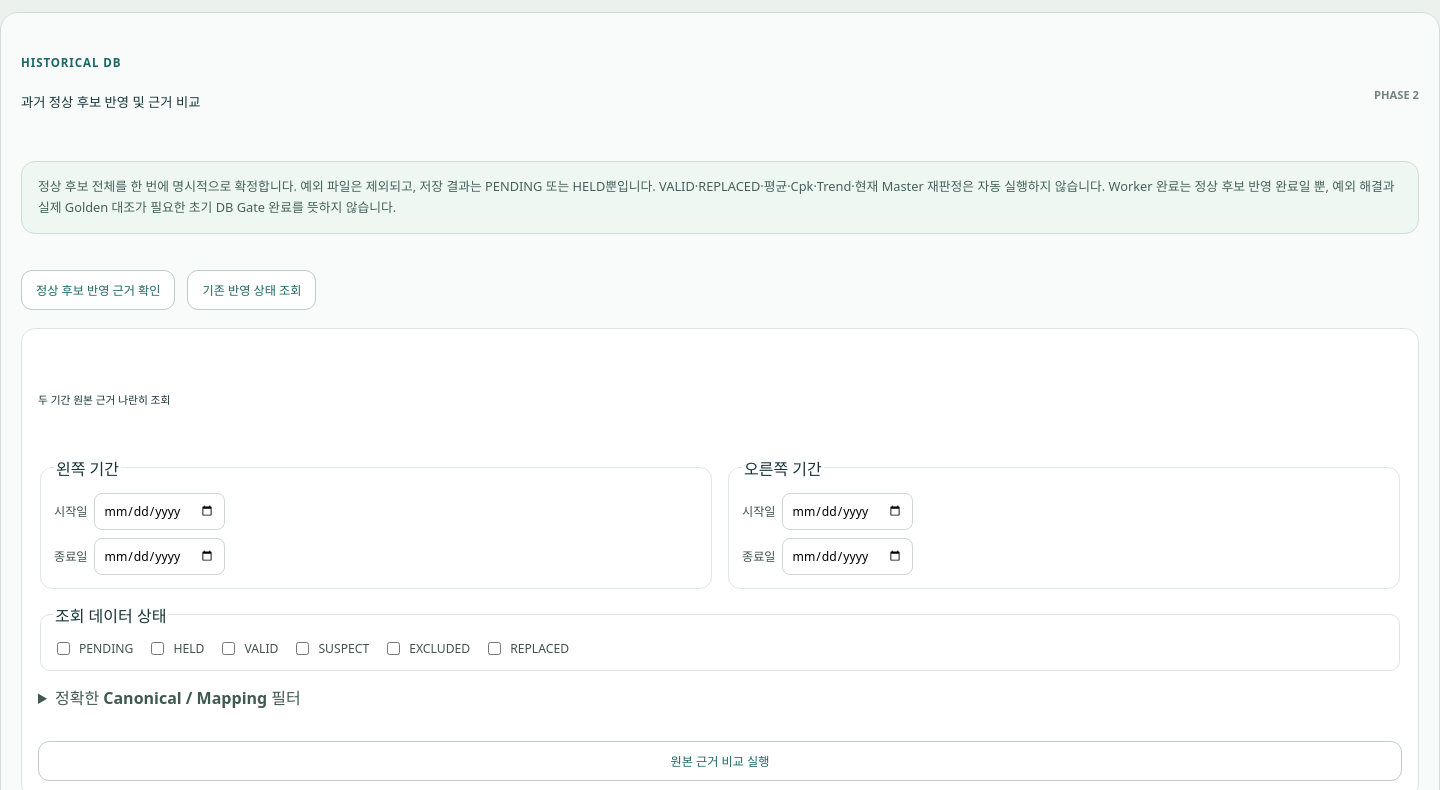
Test: HistoricalWorkspacePanel › DQ-P2-HISTUI-001 두 기간과 상태를 명시해 원본 Cell·Raw·Mapping 근거를 나란히 조회한다
In the date field labelled "시작일" below "왼쪽 기간": (159, 511) [94, 492, 225, 530], type "2026-01-01"
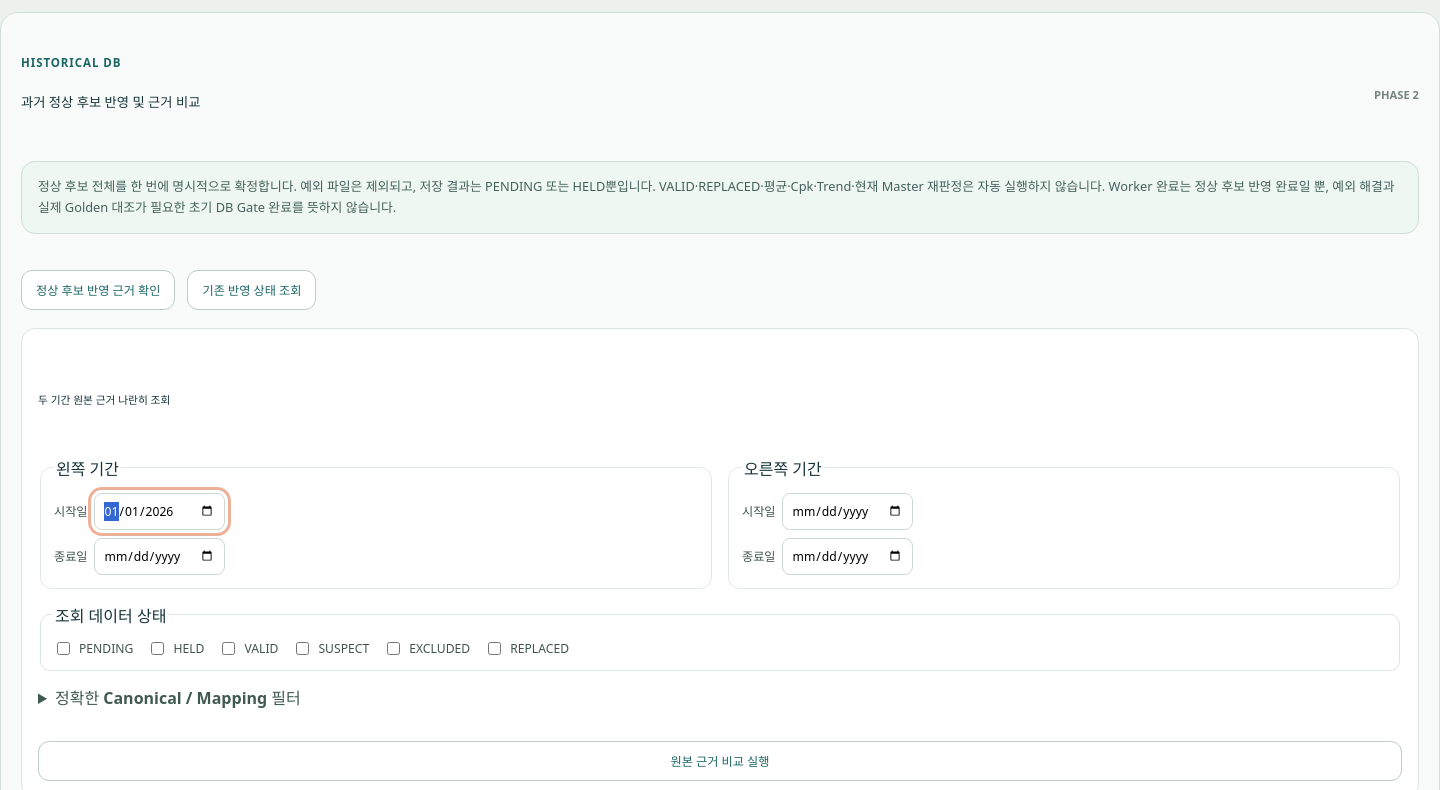
In the date field labelled "종료일" below "왼쪽 기간": (159, 556) [94, 538, 225, 574], type "2026-01-31"
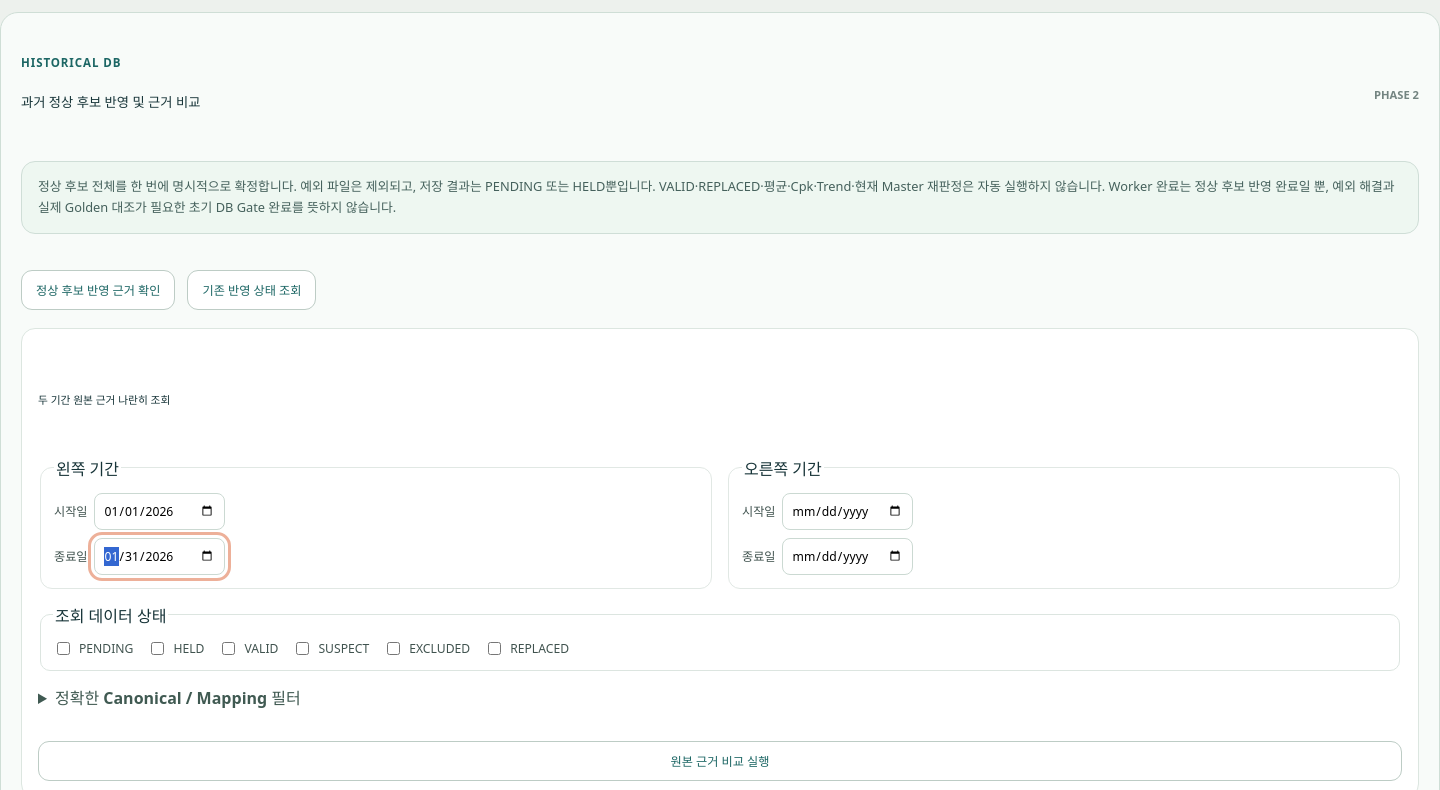
In the date field labelled "시작일" below "오른쪽 기간": (847, 511) [782, 492, 913, 530], type "2026-02-01"
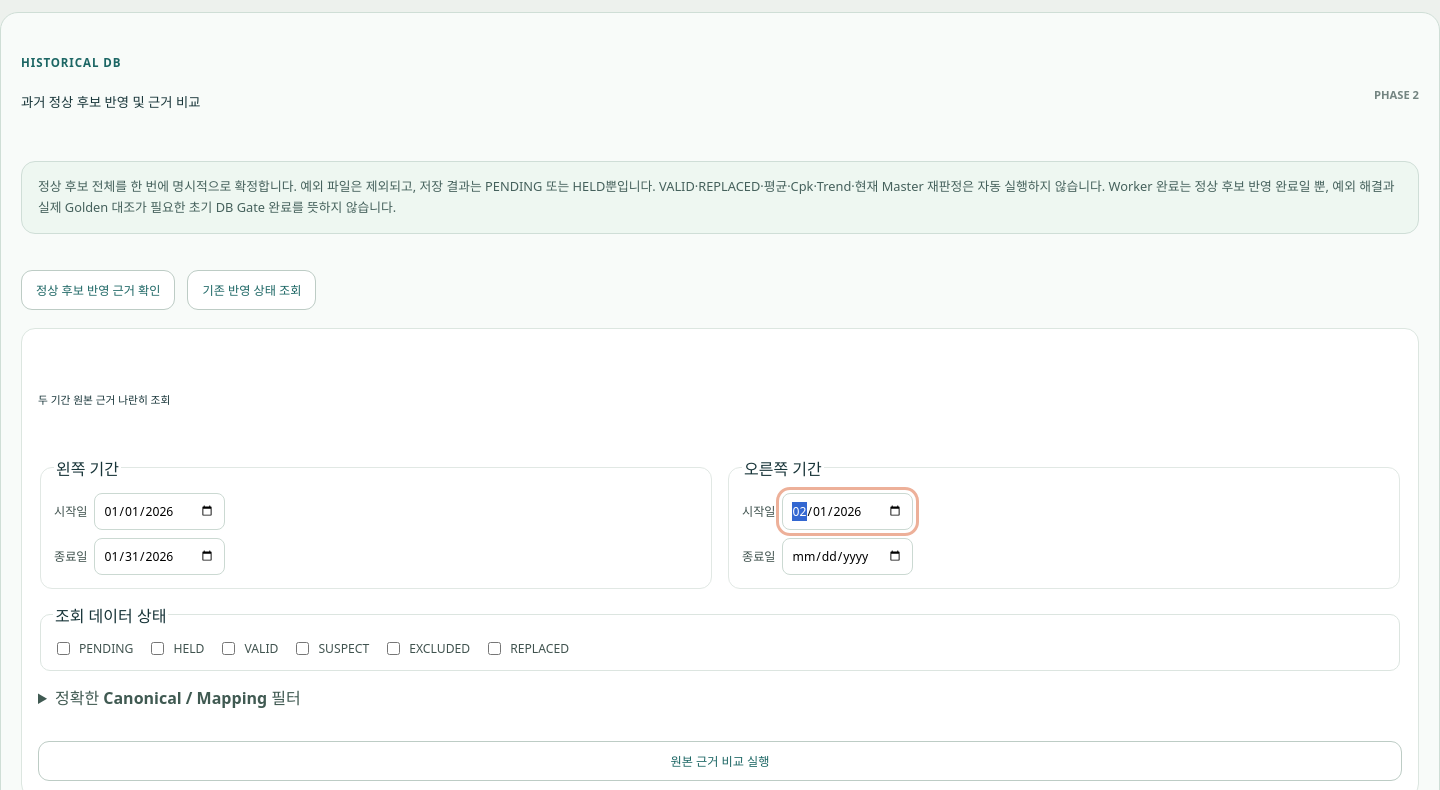
In the date field labelled "종료일" below "오른쪽 기간": (847, 556) [782, 538, 913, 574], type "2026-02-28"
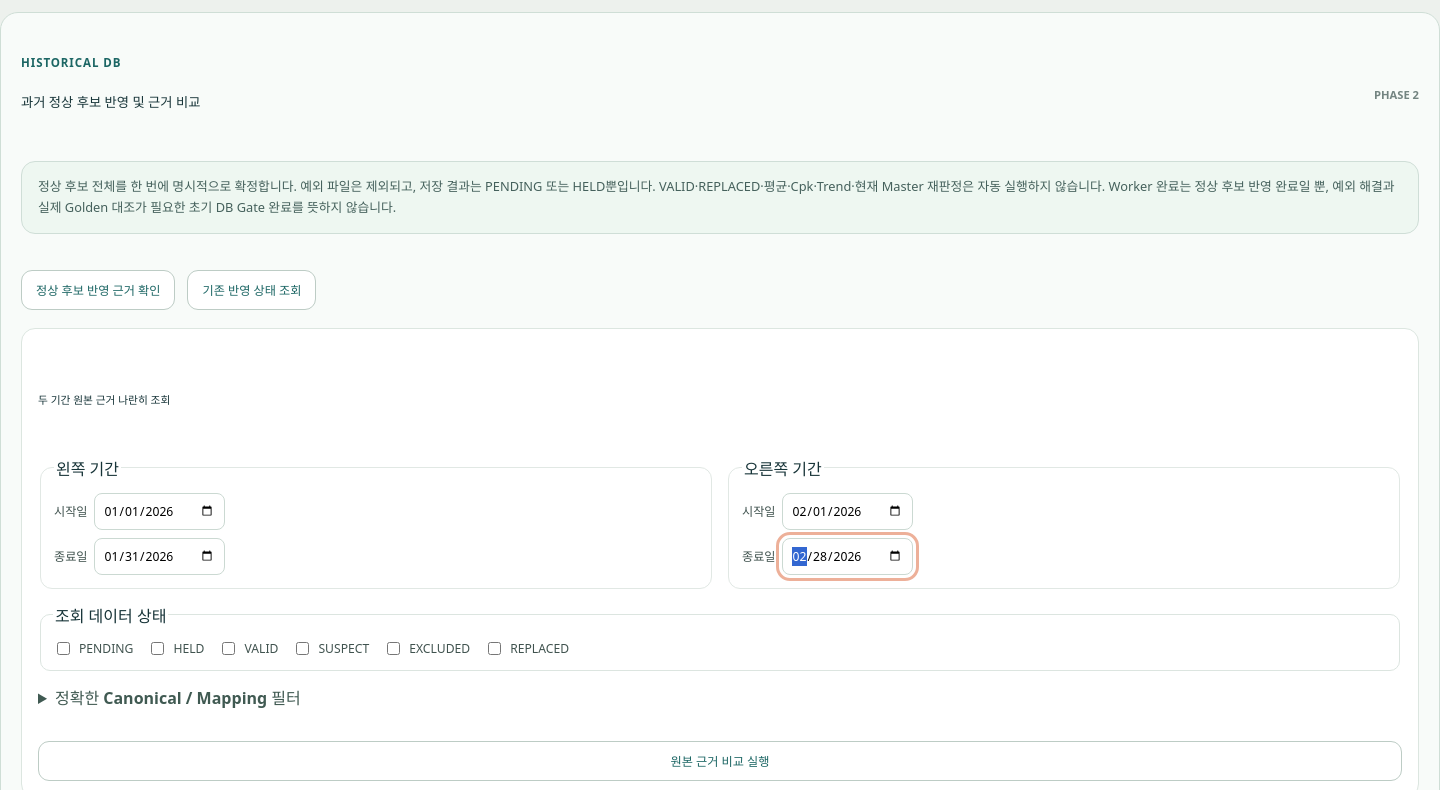
Click the checkbox labelled "PENDING": click(64, 648) [57, 642, 70, 654]
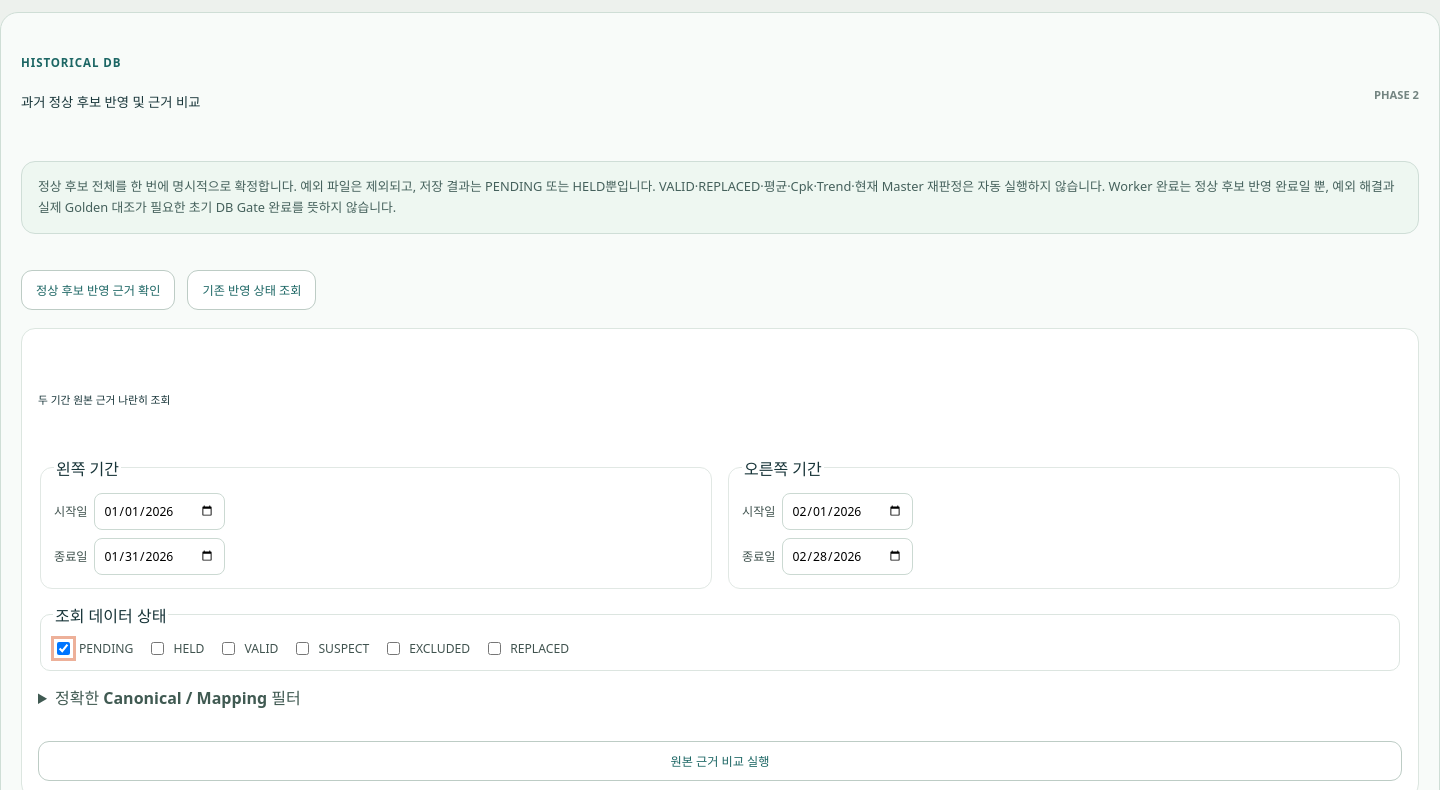
Click the button "원본 근거 비교 실행": click(720, 760) [38, 740, 1402, 780]
(page scrolled)
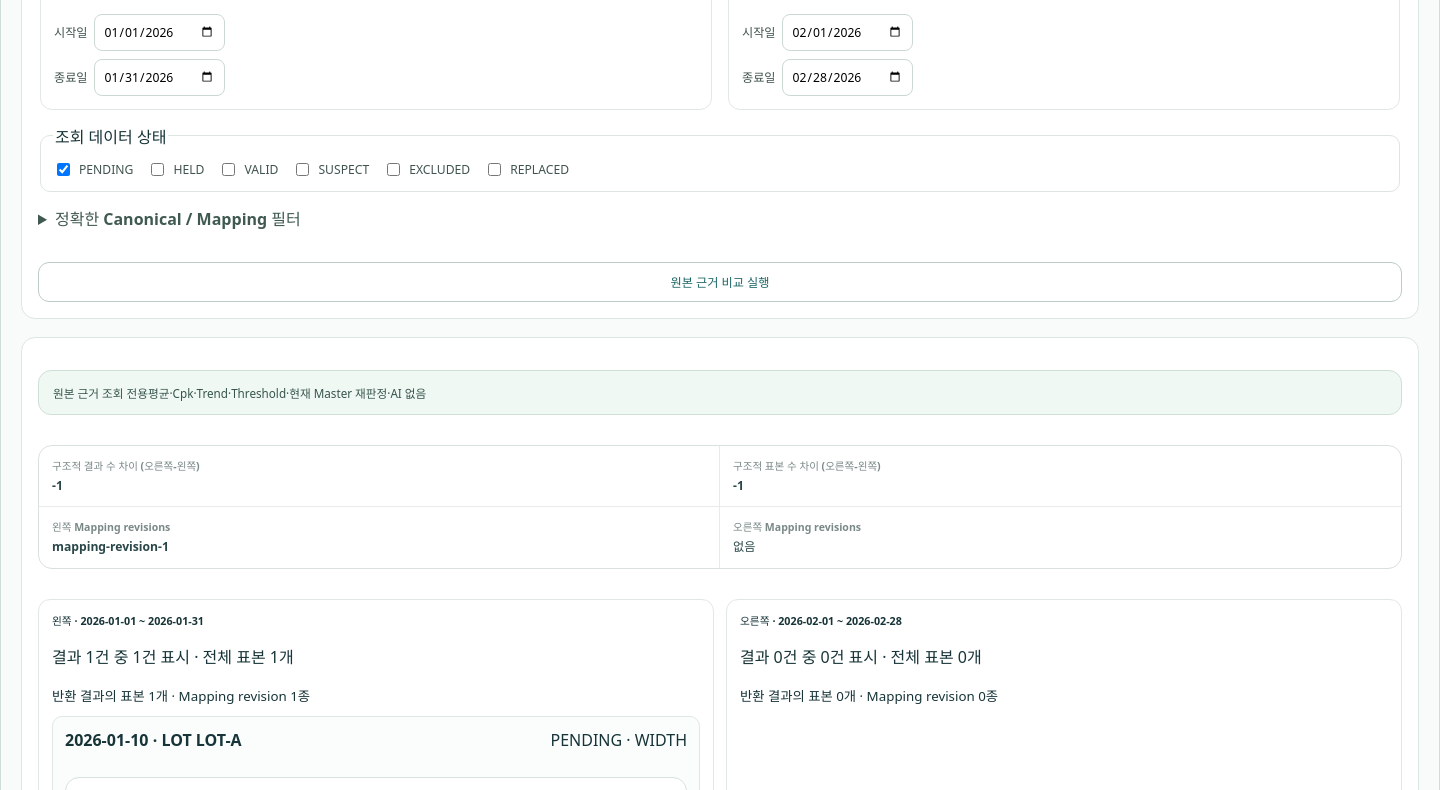
expect the text "2026-01-10 · LOT LOT-A" is shown: met, box [65, 729, 242, 751]
expect the text "원본 근거 조회 전용" is shown: met, box [53, 386, 148, 400]
